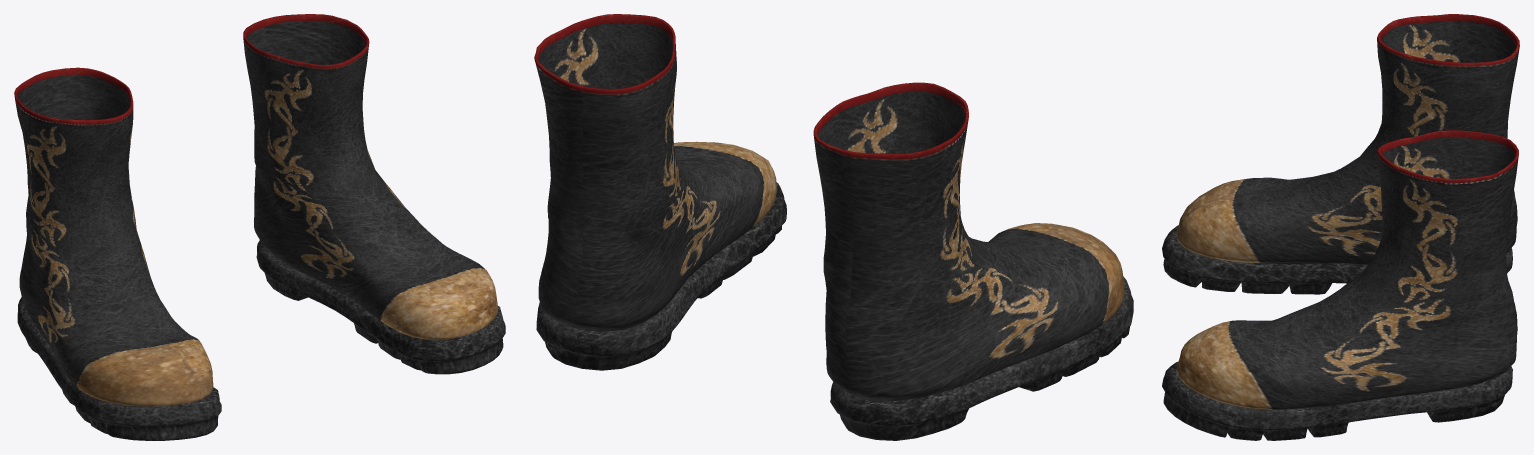
The model's file is Boots.glb.
The picture shows the model from 3 angles, left to right: view 1: azimuth 30°, elevation 25°; view 2: azimuth 150°, elevation 25°; view 3: azimuth 270°, elevation 25°; orthographic projection. The views are drawn at different scales.
Visible parts, largest first — view 1: Boots for Genesis; view 2: Boots for Genesis; view 3: Boots for Genesis.
Boxes of the visible parts, x1,y1,x2,y2 form: Boots for Genesis: (14, 14, 505, 440); Boots for Genesis: (534, 14, 1133, 440); Boots for Genesis: (1162, 14, 1519, 440).
Size of the model in its own units: 7.6 by 4.43 by 5.68.
Materials: 2 (2 with a texture image).
